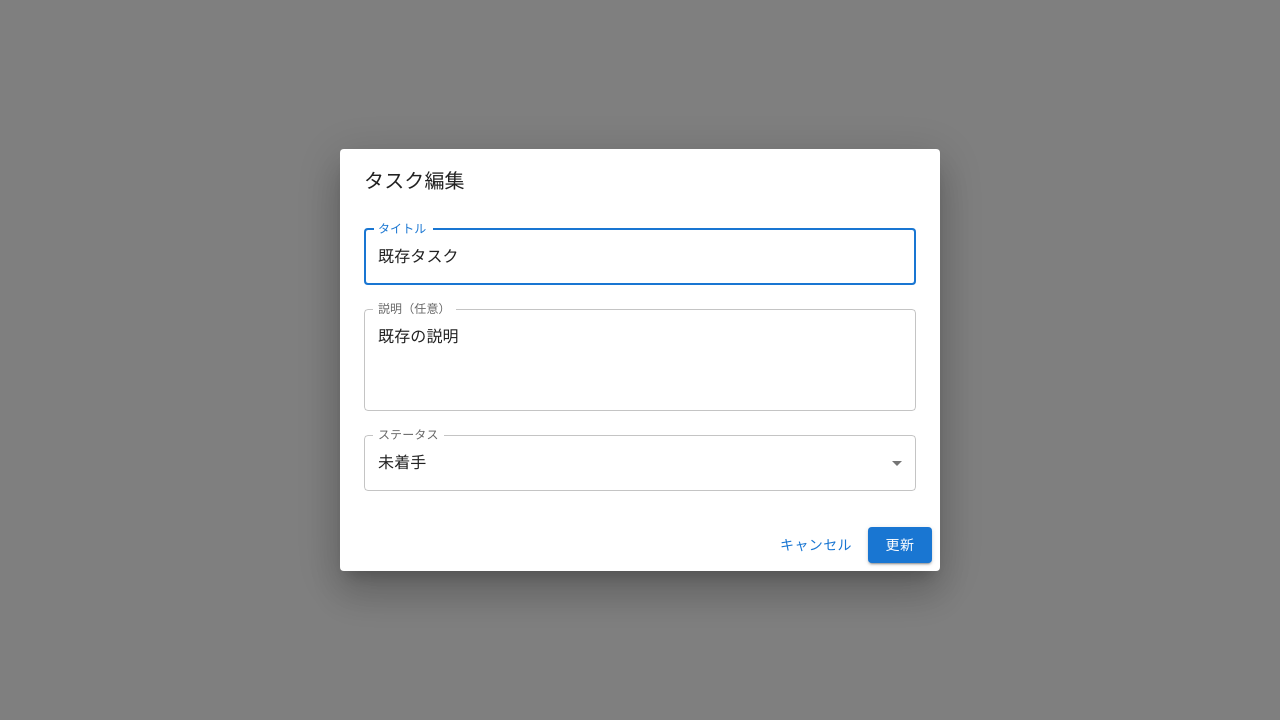
Scenario: TaskEditDialog › 送信失敗でエラーメッセージを表示する
The image size is (1280, 720).
Click the button "更新".
click(900, 545)  # box [868,527,932,563]
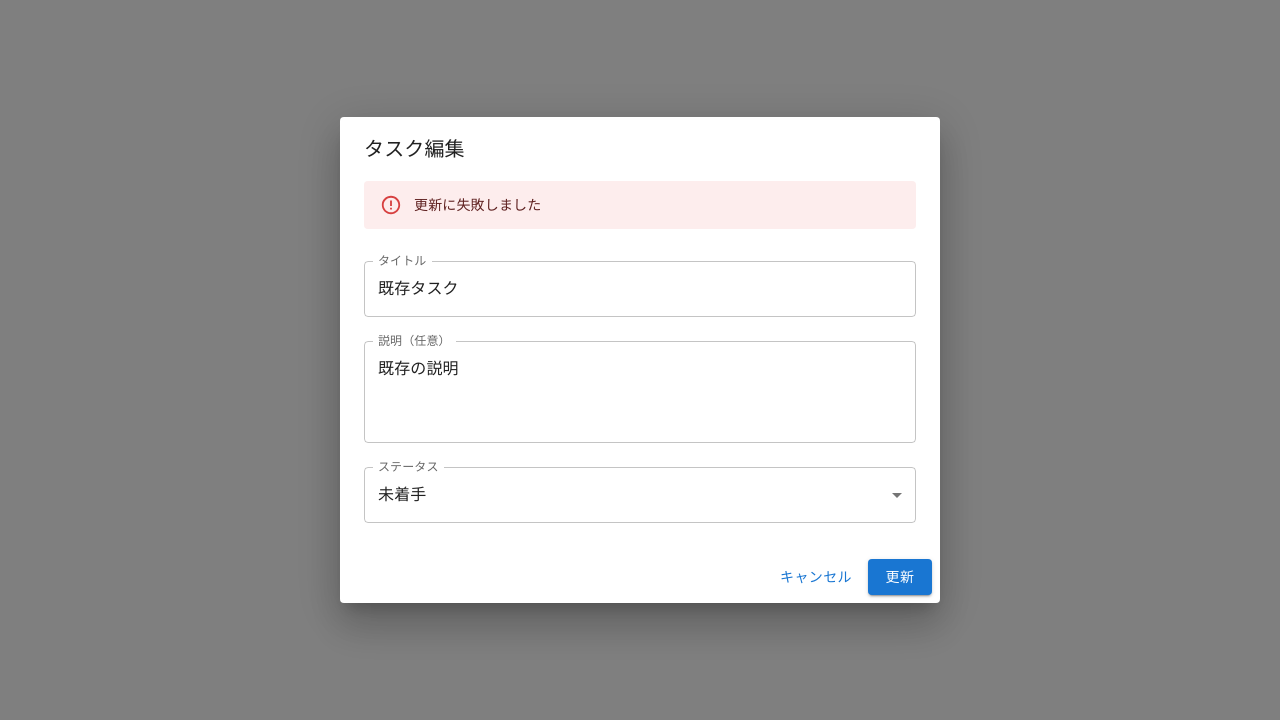
Check: the text "更新に失敗しました" is shown, box [414,197,541,213]
